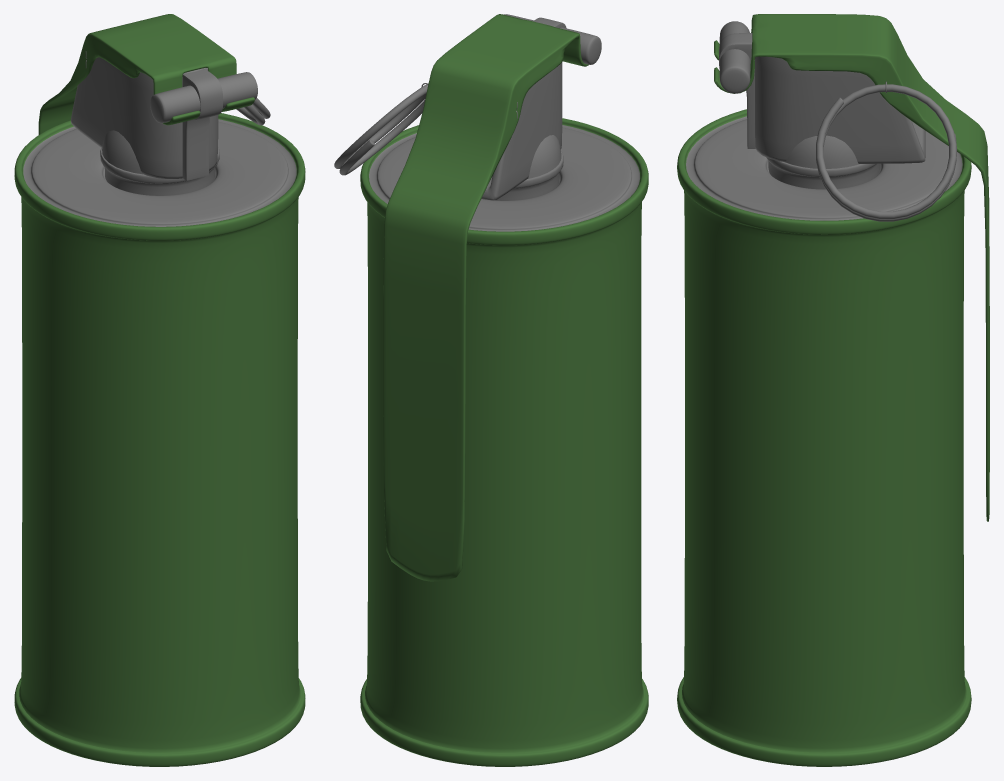
The model's file is smoke.fbx.
3 views of the same model, side by side, from view 1: azimuth 30°, elevation 25°; view 2: azimuth 150°, elevation 25°; view 3: azimuth 270°, elevation 25° (orthographic). The views are drawn at different scales.
Parts seen in each view (by area): view 1: Cylinder, Plane, Cube, Cube.001, Cylinder.002, Cylinder.001, Sphere; view 2: Cylinder, Plane, Cube, Torus.001, Cylinder.001, Sphere, Cylinder.002; view 3: Cylinder, Plane, Cube, Torus.001, Cylinder.001, Sphere, Cylinder.002, Cube.001.
Boxes of the visible parts, <box> form: Cylinder: <box>14,113,305,766</box>; Plane: <box>38,14,254,134</box>; Cube: <box>71,57,218,178</box>; Cube.001: <box>182,69,222,180</box>; Cylinder.002: <box>150,72,257,123</box>; Cylinder.001: <box>100,147,219,195</box>; Sphere: <box>102,130,142,174</box>; Cylinder: <box>360,118,648,766</box>; Plane: <box>383,14,588,581</box>; Cube: <box>481,62,562,200</box>; Torus.001: <box>334,83,428,175</box>; Cylinder.001: <box>481,150,563,200</box>; Sphere: <box>528,135,561,178</box>; Cylinder.002: <box>504,14,601,64</box>; Cylinder: <box>677,109,971,766</box>; Plane: <box>714,14,989,521</box>; Cube: <box>755,56,925,163</box>; Torus.001: <box>816,84,956,221</box>; Cylinder.001: <box>766,157,880,189</box>; Sphere: <box>785,135,859,168</box>; Cylinder.002: <box>719,21,750,93</box>; Cube.001: <box>719,33,755,148</box>.
Bounding box in the file's own units: 85.17 × 213 × 89.69.
